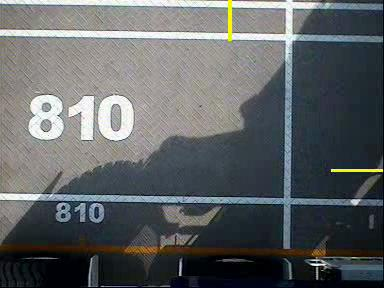groundmarker_2: (107, 141, 170, 180)
